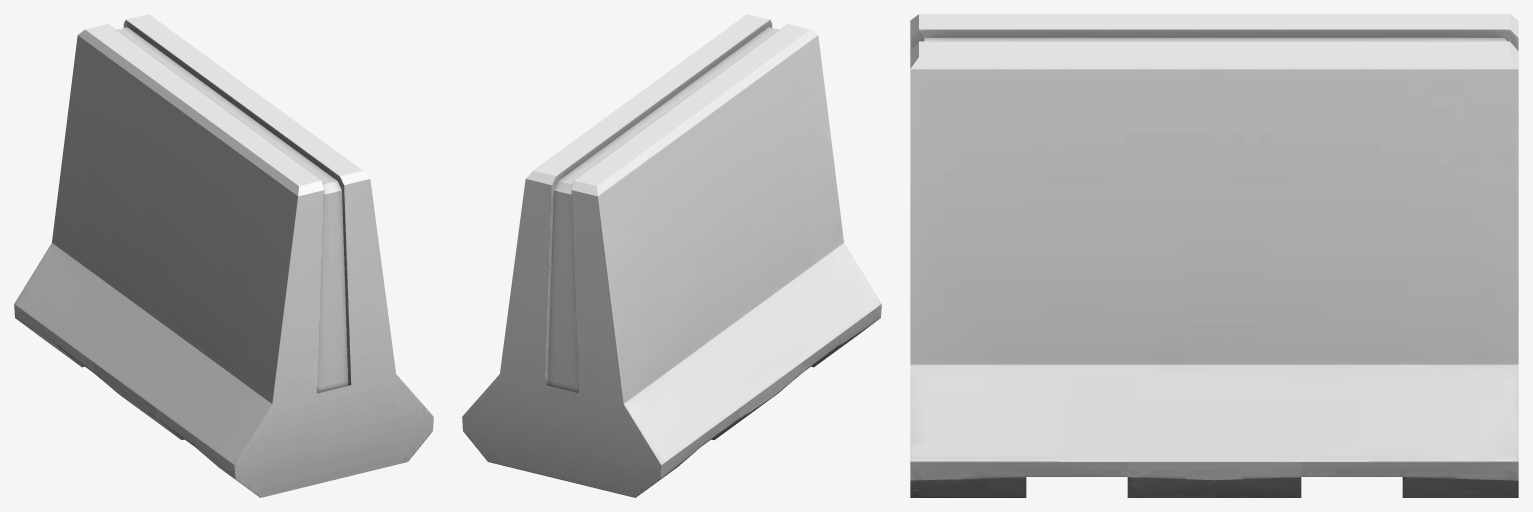
File: barrier_05.glb
The picture shows the model from 3 angles, left to right: view 1: azimuth 30°, elevation 25°; view 2: azimuth 150°, elevation 25°; view 3: azimuth 270°, elevation 25°; orthographic projection. The views are drawn at different scales.
Parts seen in each view (by area): view 1: barrier1, barrier2; view 2: barrier1, barrier2; view 3: barrier1, barrier2.
Boxes of the visible parts, x1,y1,x2,y2 form: barrier1: (14,14,433,497); barrier2: (92,79,271,252); barrier1: (462,14,881,497); barrier2: (624,79,803,252); barrier1: (910,14,1518,497); barrier2: (975,107,1453,173).
Size of the model in its own units: 0.8801 by 1.26 by 1.69.
Materials: 2 (2 with a texture image).
